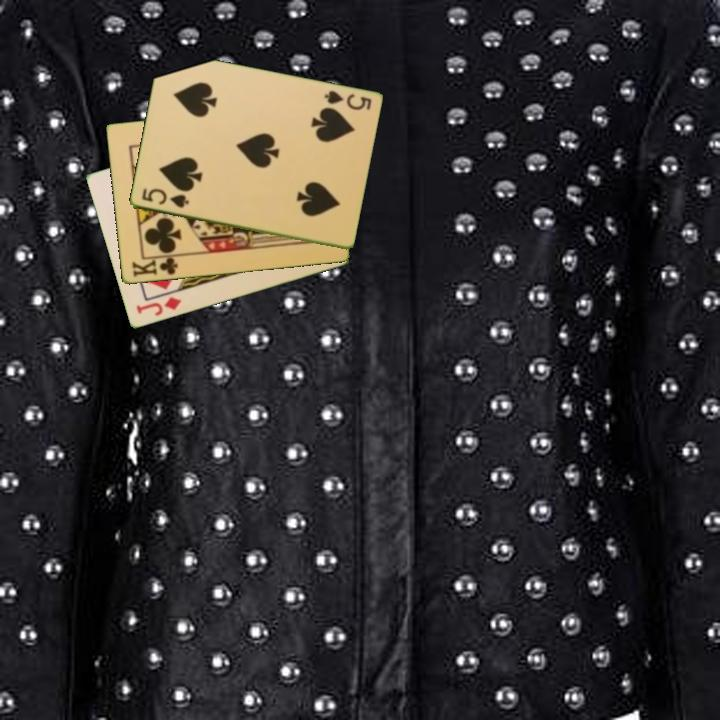5s: (138, 185, 192, 211), (320, 87, 374, 113)
Jd: (133, 294, 184, 319)
Kc: (128, 253, 182, 280)
